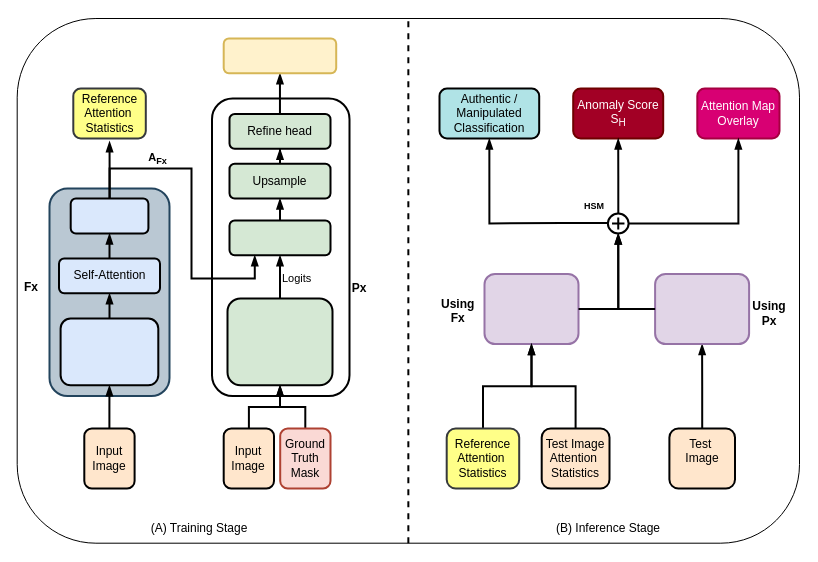
Some shapes in this 818 by 562 pixel diagram are drawn without their labels. Each missing label, with the centre of its shape:
Attention Mean layer: (109,215)
Compute Global Attention deviation (S F ): (531,308)
Compute Segmentation Confidence (S P ): (702,308)
Cross Attention: (279,237)
Logits (Segmentation map): (279,55)
SegFormer-based Manipulation Segmentor: (279,341)
ViT-based Forensic Attention Extractor: (109,351)
